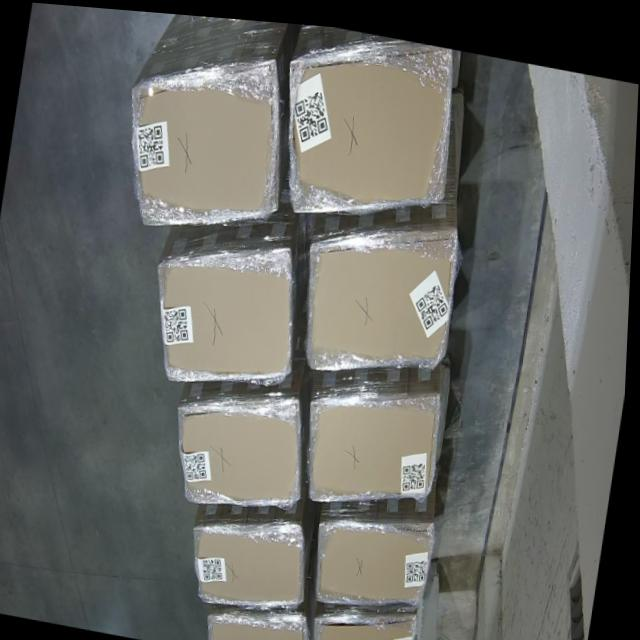pallet: (288, 42, 457, 212), (126, 48, 279, 223), (310, 225, 463, 367), (157, 240, 297, 378), (312, 384, 443, 499), (179, 387, 306, 498), (319, 509, 443, 598), (196, 516, 309, 598), (320, 599, 426, 640), (208, 606, 309, 640)
